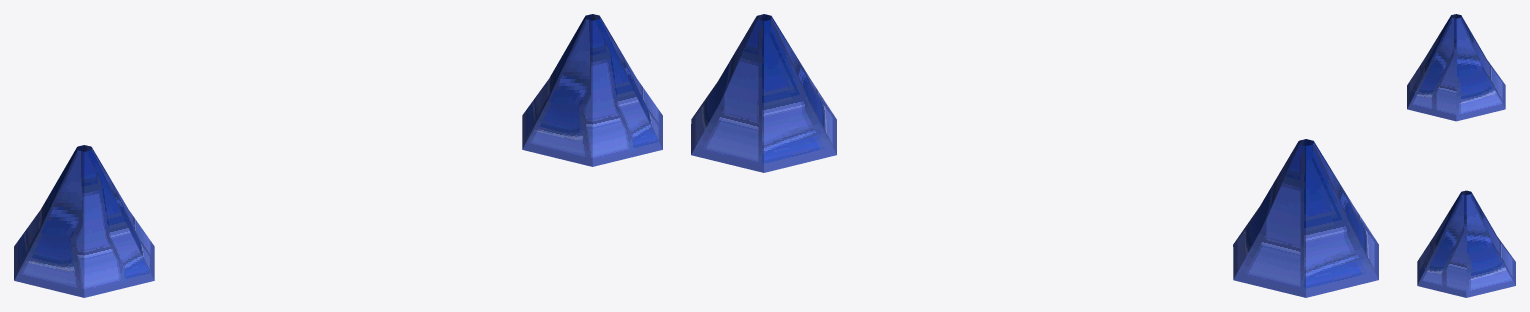
Rendered from object_42_lev2.glb.
3 views of the same model, side by side, from view 1: azimuth 30°, elevation 25°; view 2: azimuth 150°, elevation 25°; view 3: azimuth 270°, elevation 25° (orthographic). The views are drawn at different scales.
Parts seen in each view (by area): view 1: object_42_lev2; view 2: object_42_lev2; view 3: object_42_lev2.
Part boxes in pixels (<box>): object_42_lev2: <box>14,14,662,297</box>; object_42_lev2: <box>691,14,1378,297</box>; object_42_lev2: <box>1407,14,1515,297</box>.
Bounding box in the file's own units: 10.06 × 1.69 × 2.06.
Materials: 1 (1 with a texture image).
